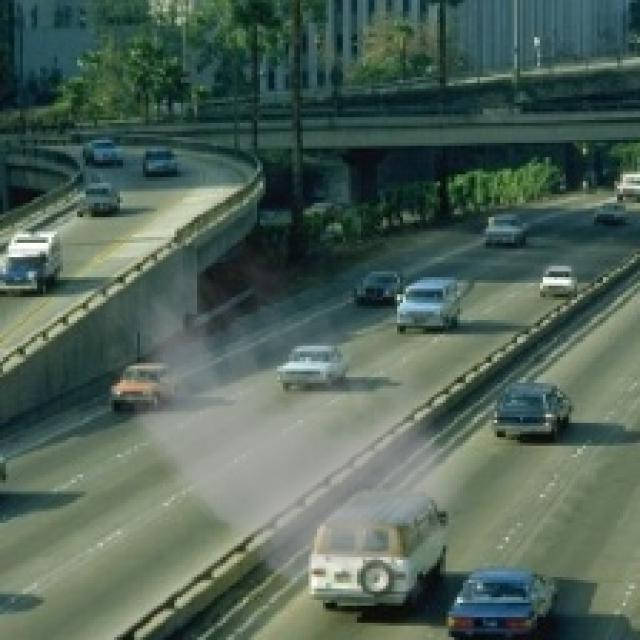smoke: (86, 209, 488, 614)
